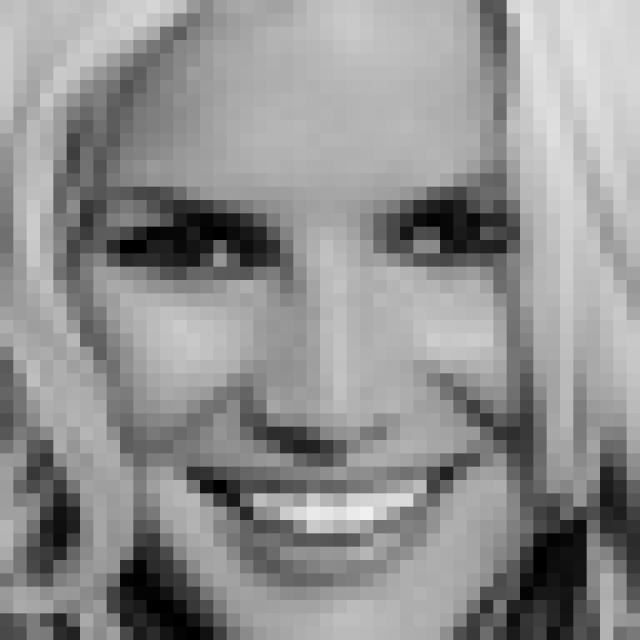happy: (84, 156, 514, 601)
